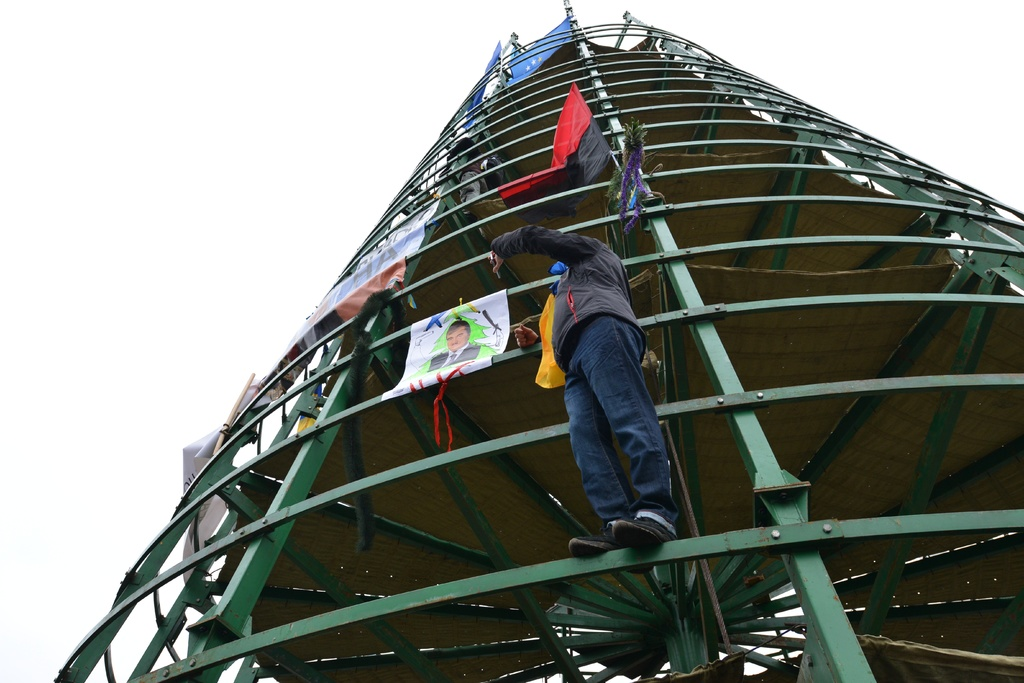Footwear: (566, 515, 675, 554), (568, 527, 654, 575)
